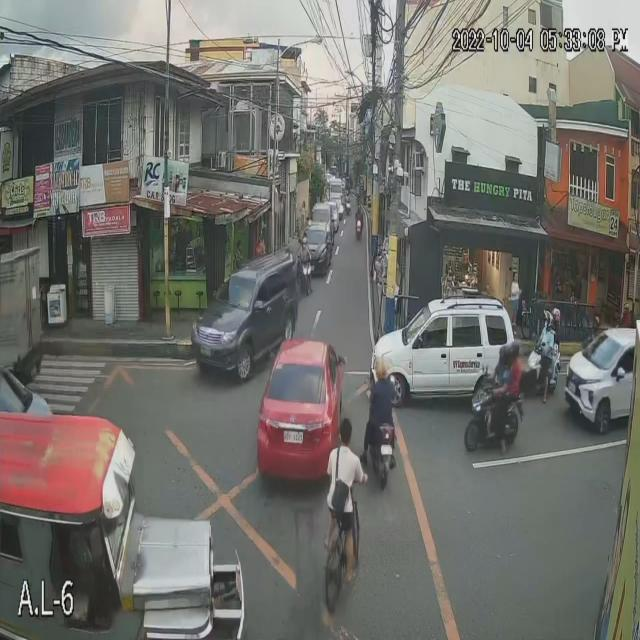half: (374, 354, 387, 381), (542, 314, 554, 333)
